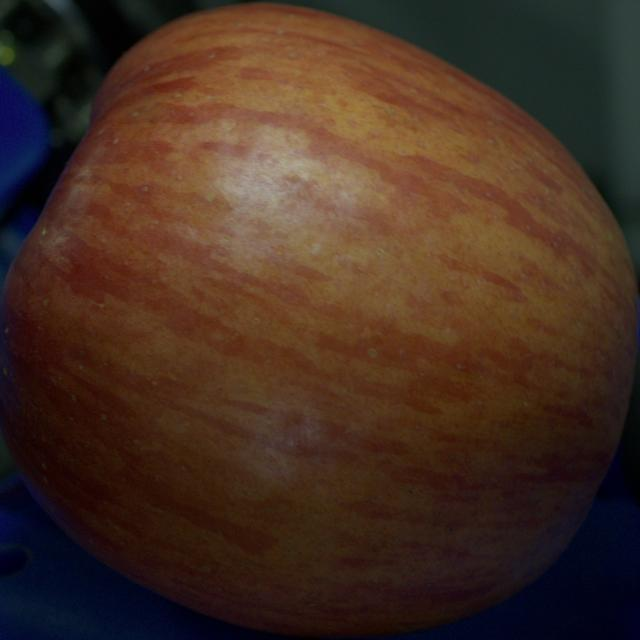apple: (0, 4, 638, 636)
